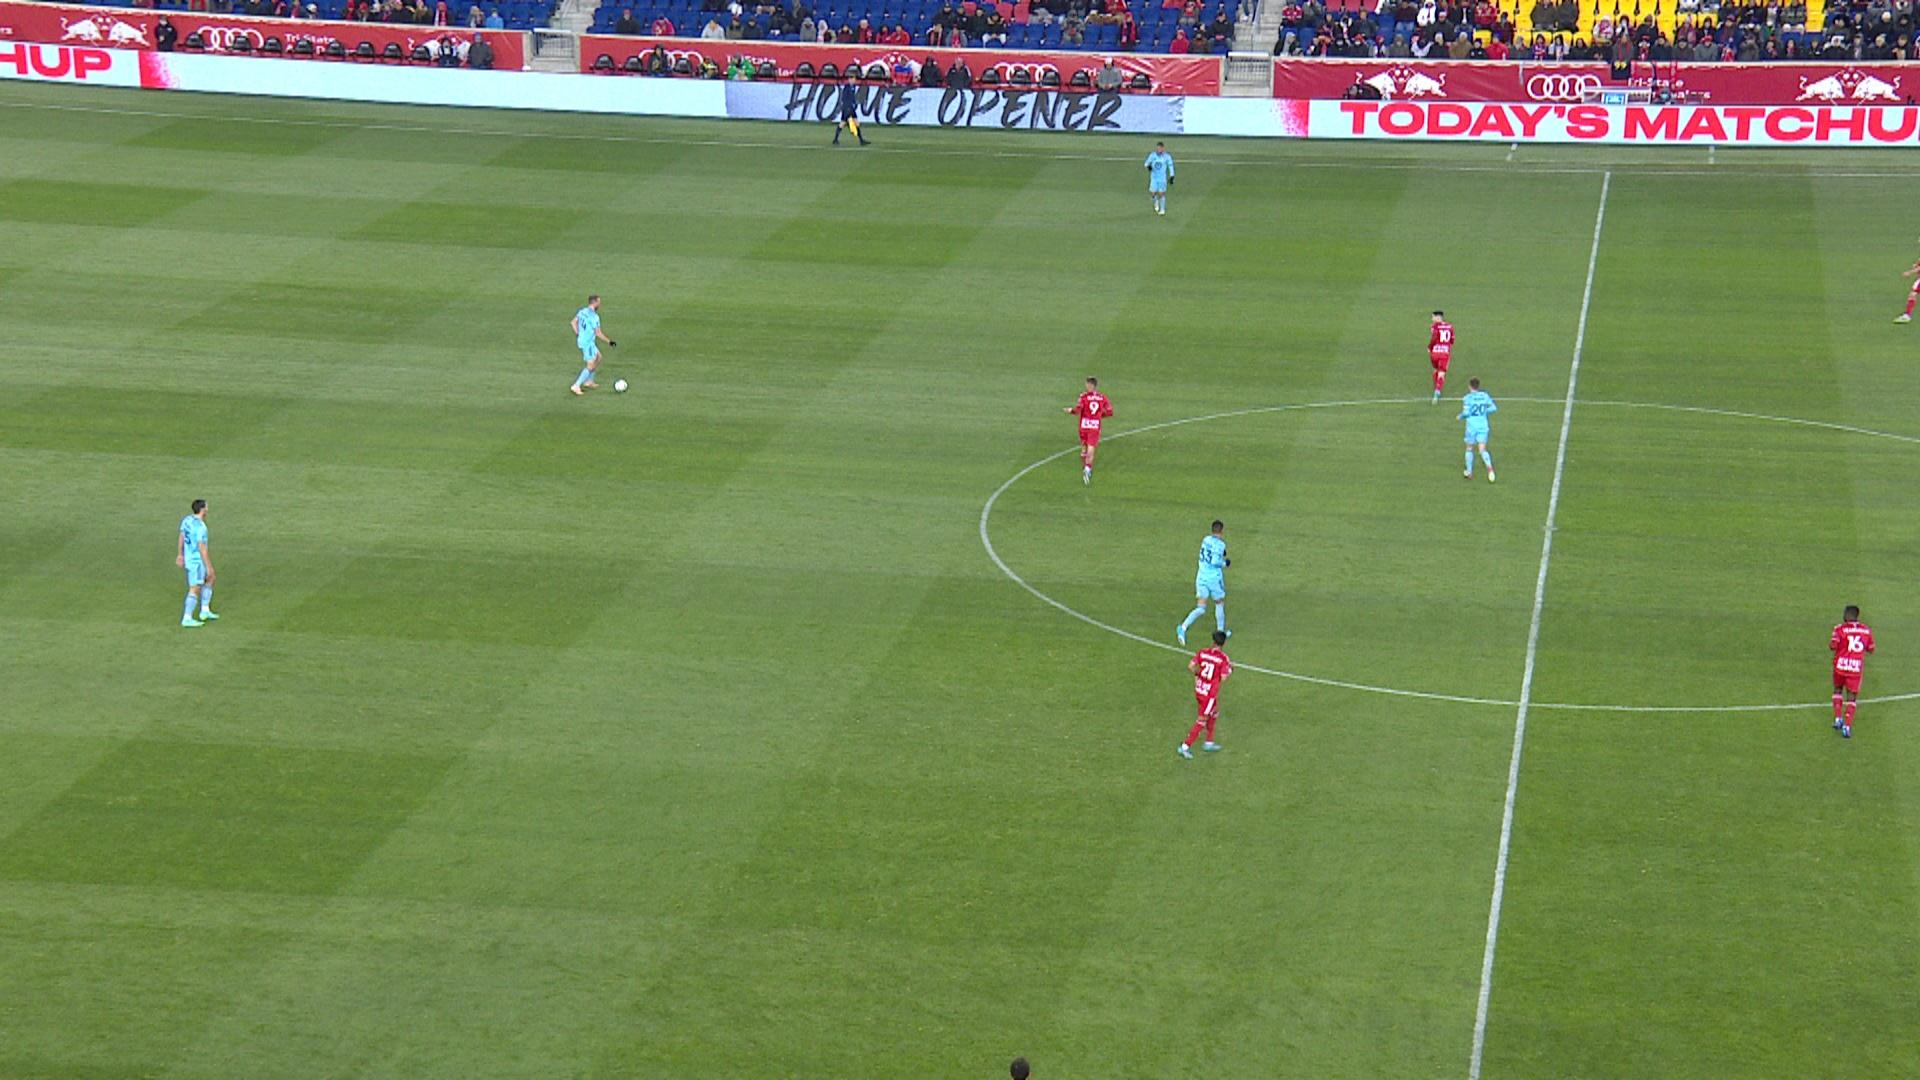football: (613, 378, 629, 393)
